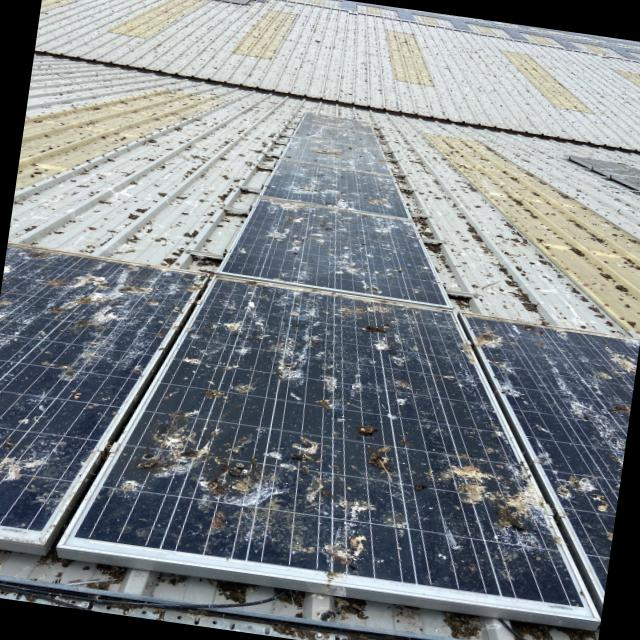faulty: (0, 112, 634, 605), (181, 310, 462, 524)
